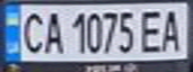0: (84, 9, 103, 54)
1: (66, 9, 87, 54)
5: (115, 8, 139, 54)
7: (100, 8, 121, 54)
A: (157, 6, 187, 53), (39, 8, 66, 55)
C: (15, 8, 48, 55)
E: (136, 7, 166, 54)
